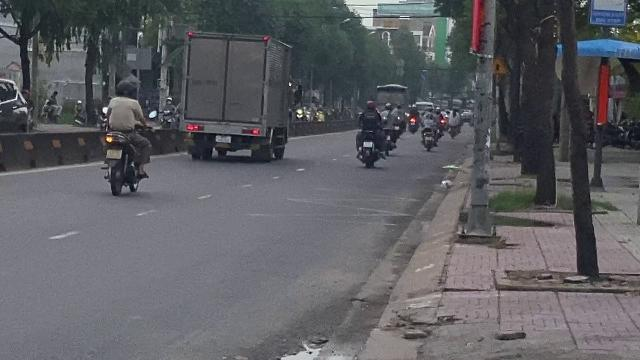helmet: (114, 80, 134, 98)
licenseplate: (105, 150, 121, 158)
motorcyclist: (99, 78, 151, 196)
